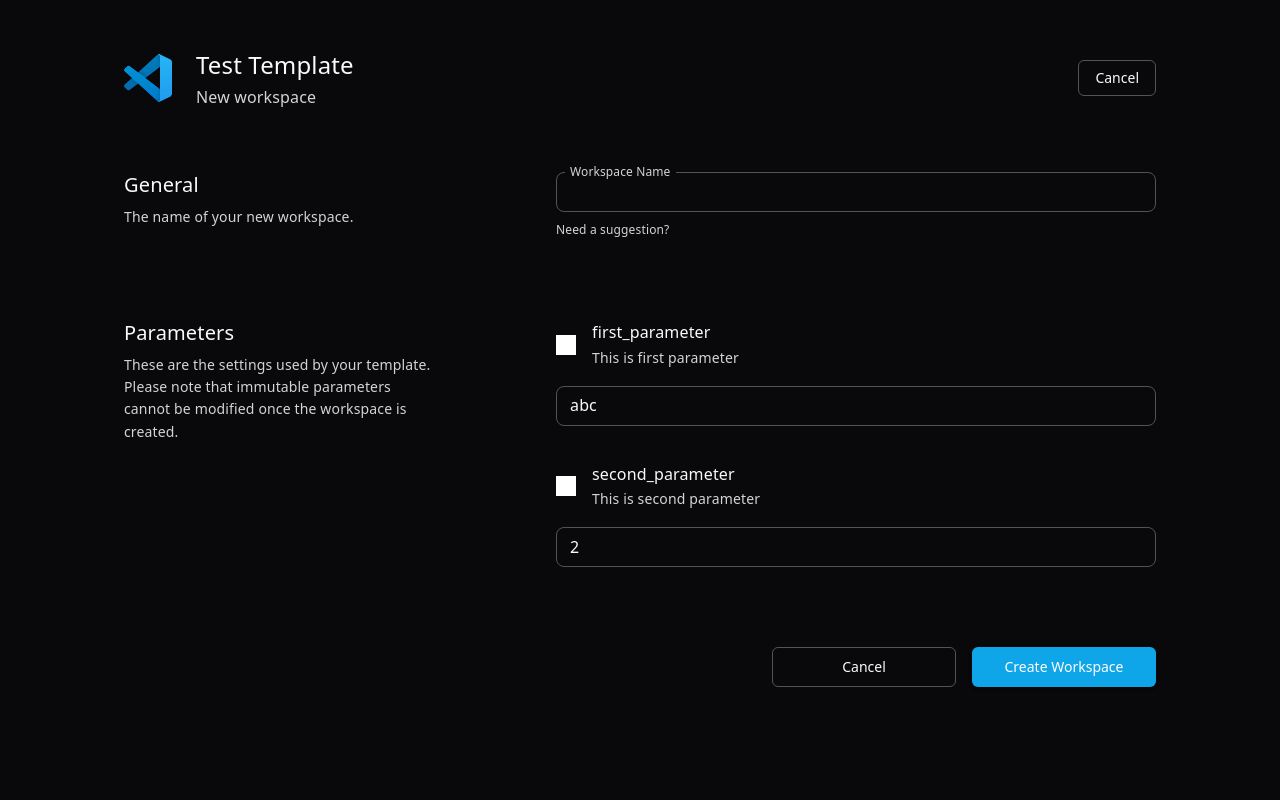
it: CreateWorkspacePage › rich parameter: number validation fails with custom error
In the number field labelled "second_parameter": (856, 547) 556,519 -> 1156,575, type "4"
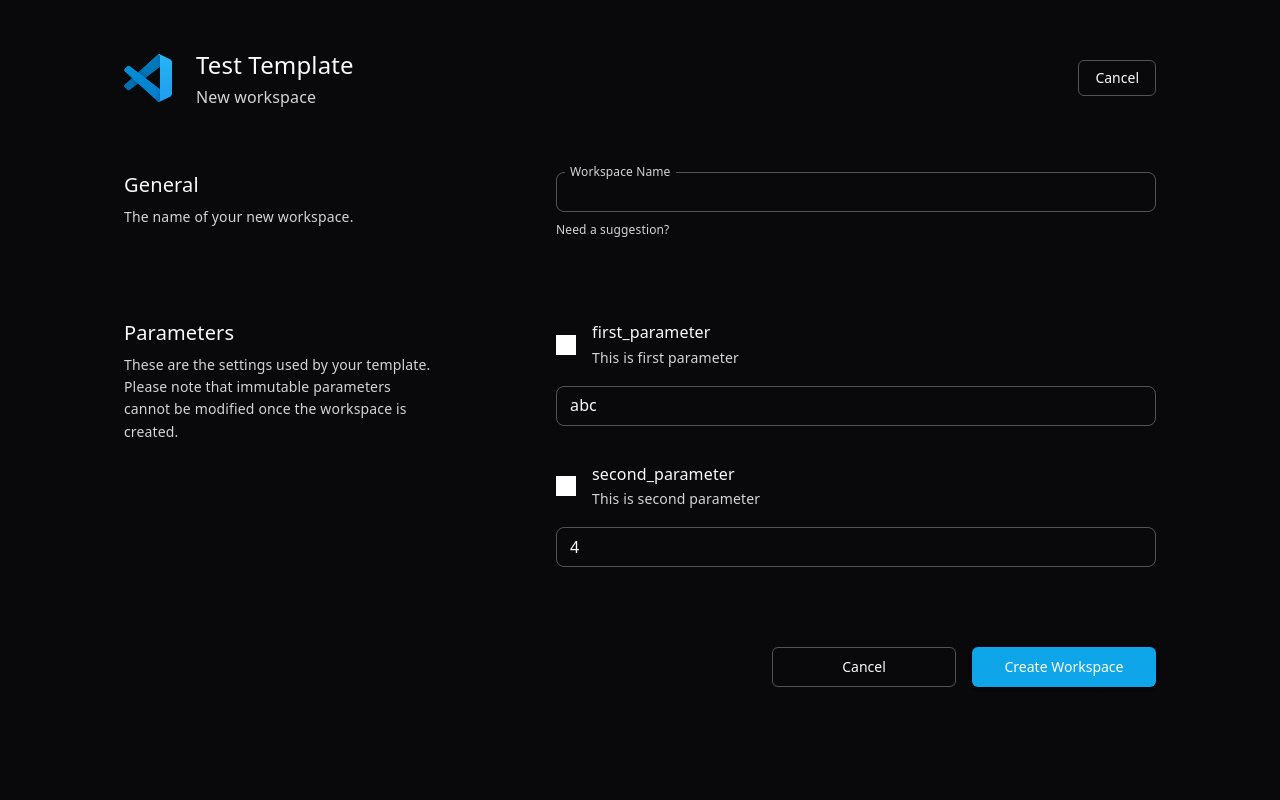
Submit the form from the number field labelled "second_parameter", box 556,519 -> 1156,575
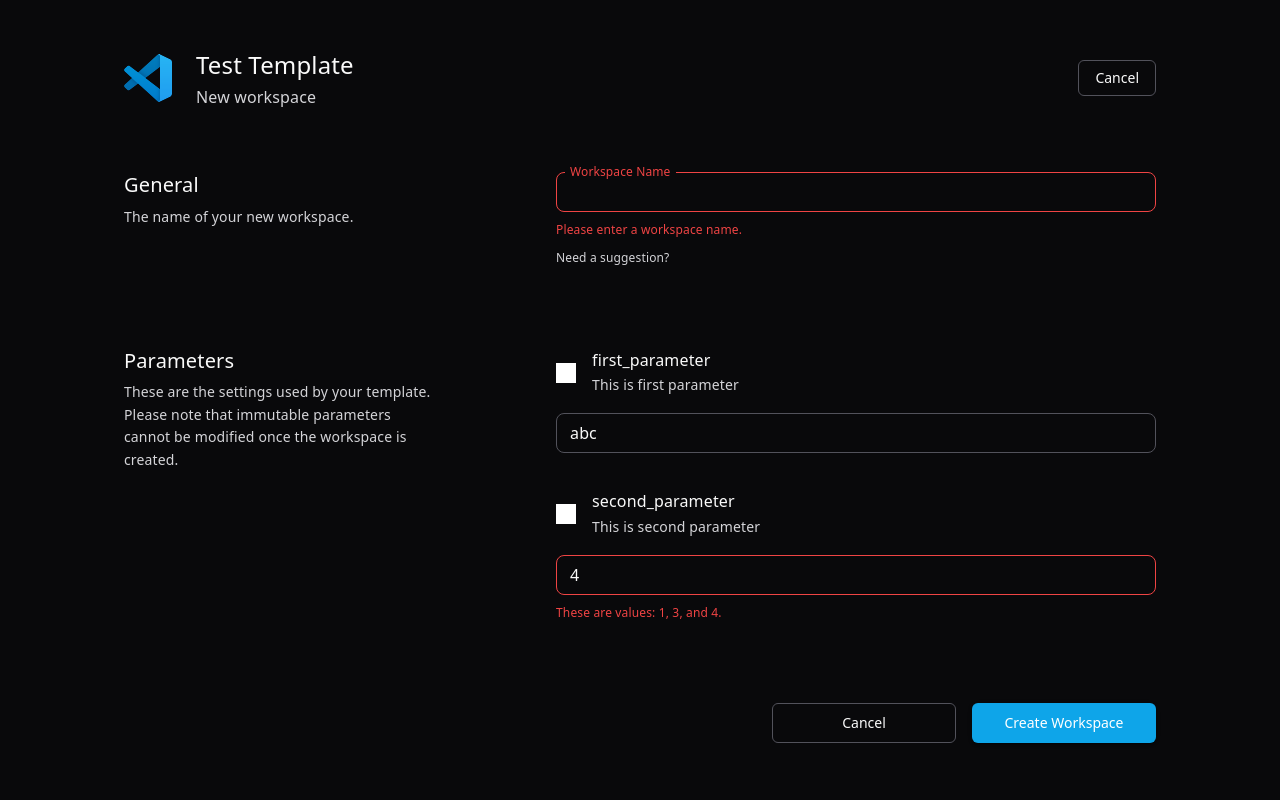
Check: the text "These are values: 1, 3, and 4." is shown, box 556,604 -> 722,621
